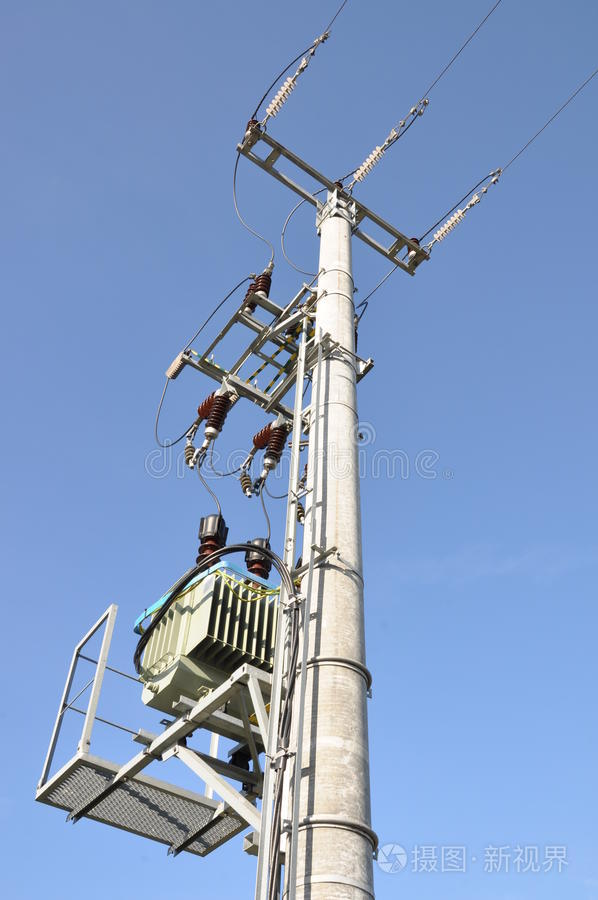insulator: (350, 148, 385, 184), (265, 76, 296, 115), (432, 207, 466, 242)
